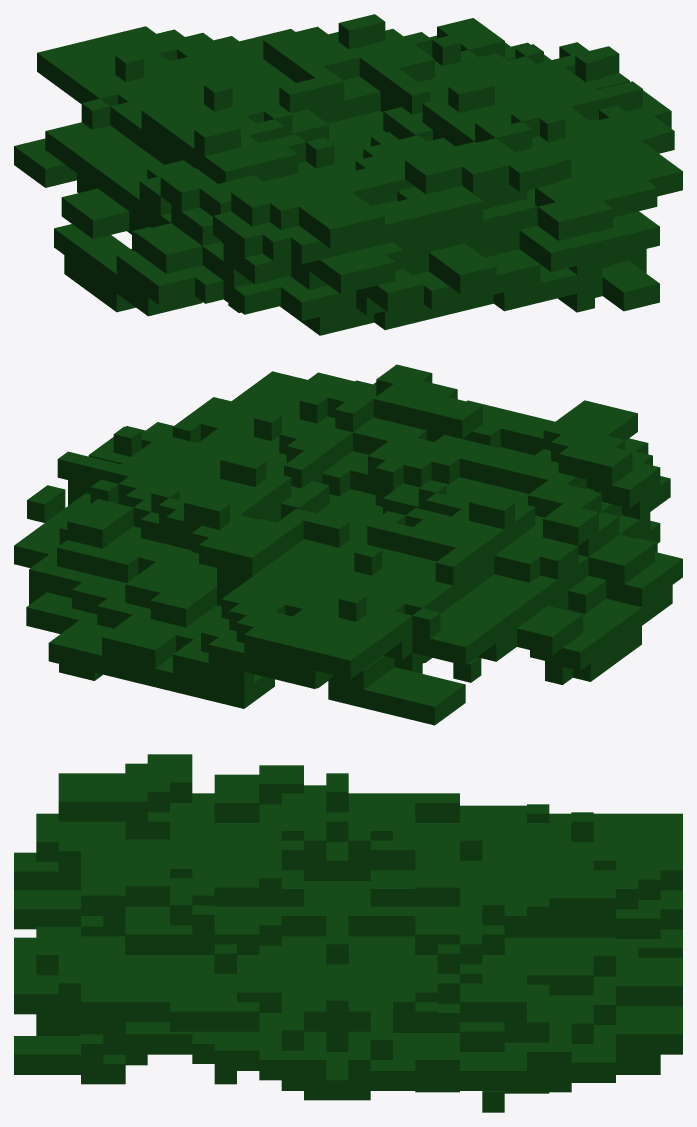
File: start_end-40.obj
3 renders of one model, top to bottom at view 1: azimuth 30°, elevation 25°; view 2: azimuth 150°, elevation 25°; view 3: azimuth 270°, elevation 25°, orthographic. The views are drawn at different scales.
Size of the model in its own units: 3 by 0.8 by 3.
1 material, 1 textured.
